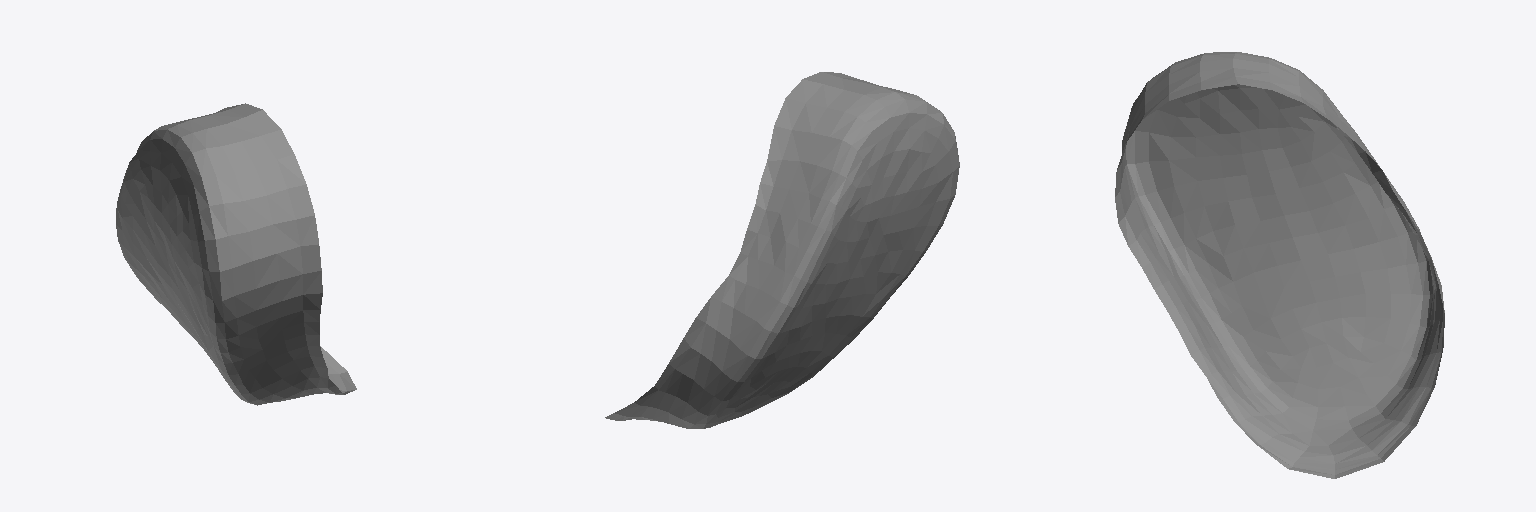
Rendered from right_grip.obj.
The picture shows the model from 3 angles: view 1: azimuth 30°, elevation 25°; view 2: azimuth 150°, elevation 25°; view 3: azimuth 270°, elevation 25°; orthographic projection.
Visible parts, largest first — view 1: right_grip; view 2: right_grip; view 3: right_grip.
Boxes of the visible parts, <box> form: right_grip: <box>116,103,356,405</box>; right_grip: <box>605,72,959,428</box>; right_grip: <box>1115,52,1444,478</box>.
Size of the model in its own units: 0.0163 by 0.0215 by 0.0195.